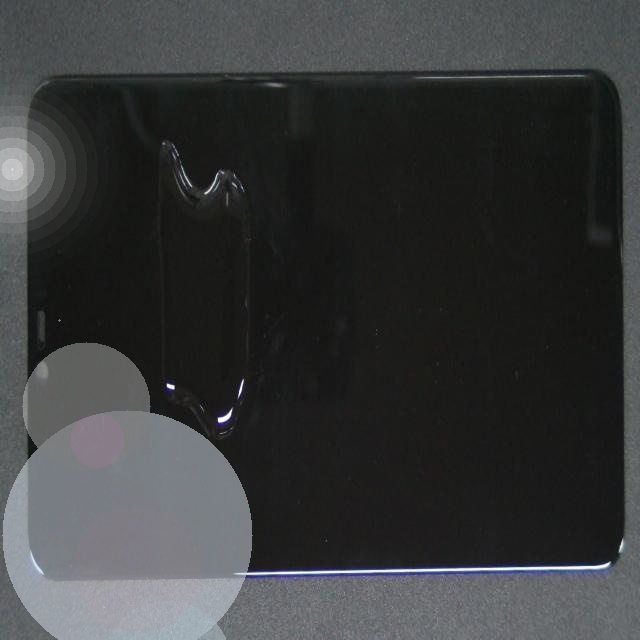oil: (133, 305, 383, 473)
